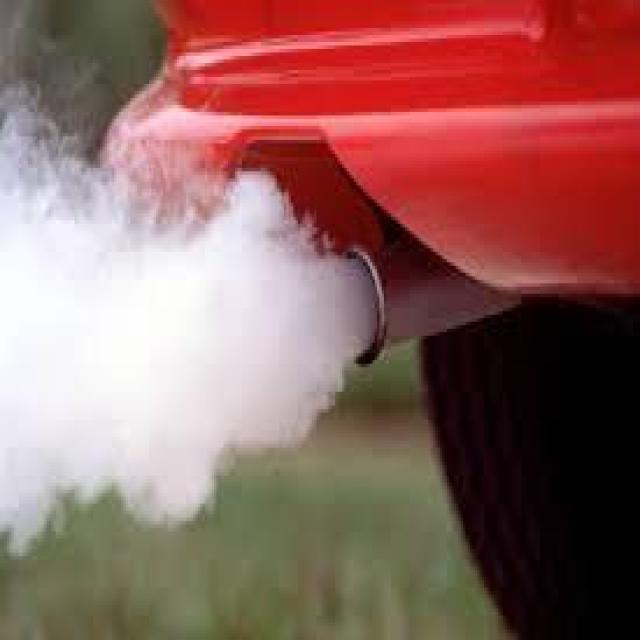Smoke: (0, 88, 374, 528)
